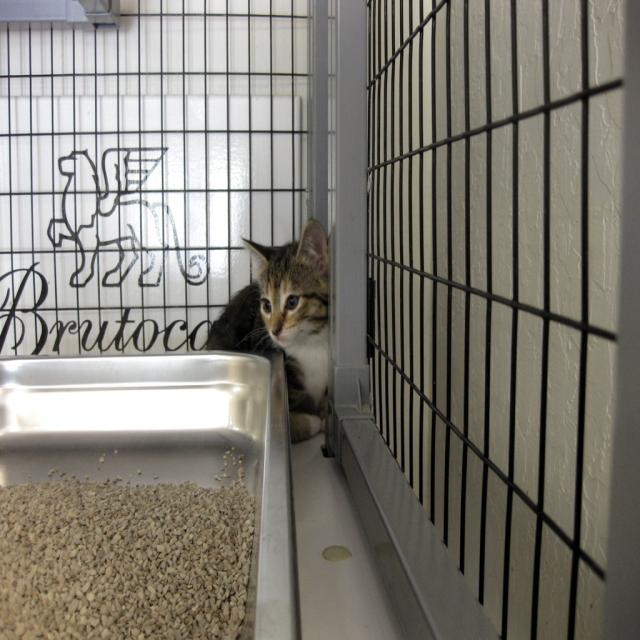Cat: (206, 218, 331, 442)
